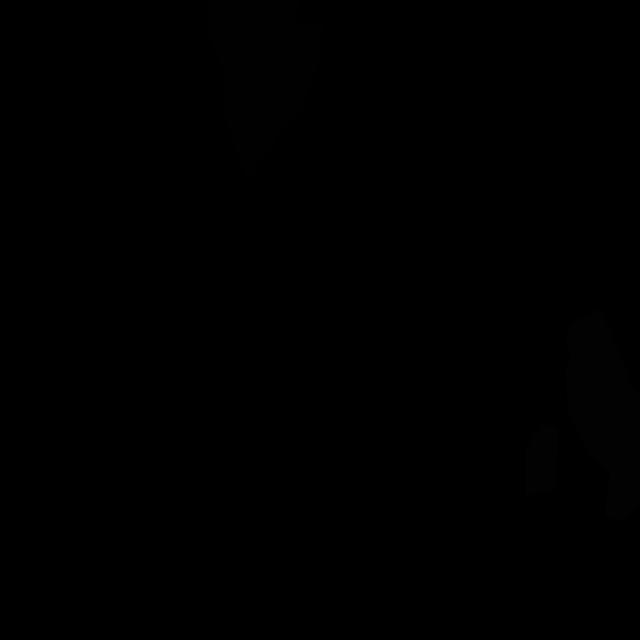cardboard: (565, 308, 640, 522), (525, 423, 558, 496)
rigid_plastic: (206, 0, 325, 182)
